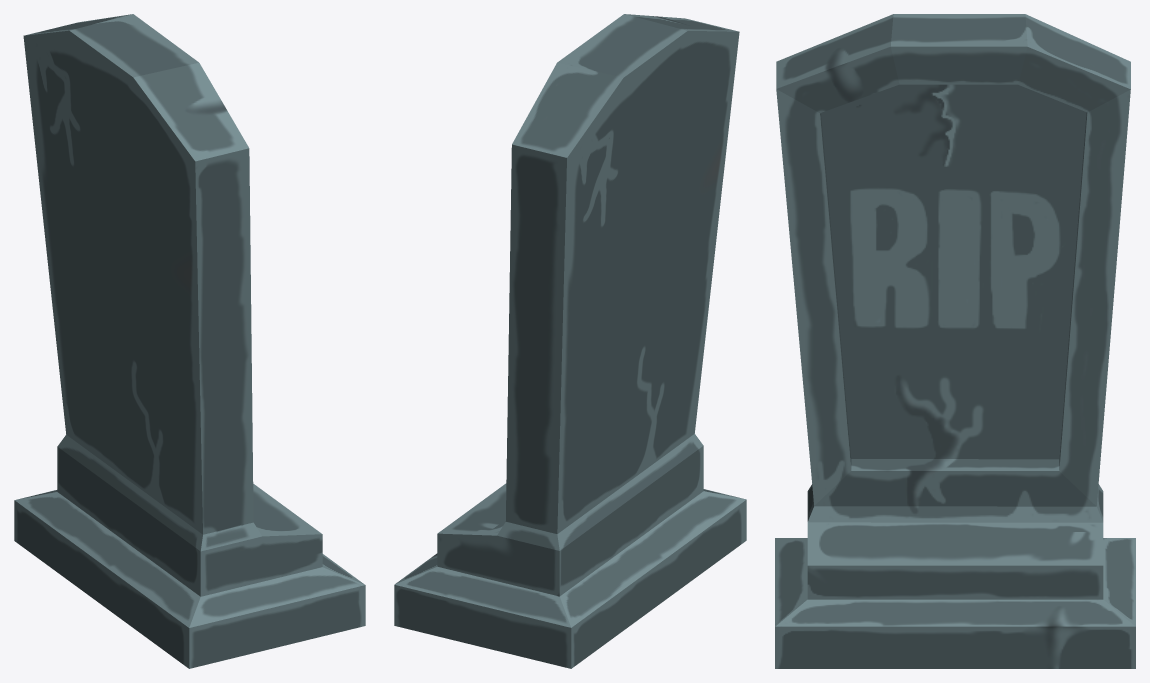
File: tombstone.gltf
The picture shows the model from 3 angles, left to right: view 1: azimuth 30°, elevation 25°; view 2: azimuth 150°, elevation 25°; view 3: azimuth 270°, elevation 25°; orthographic projection. The views are drawn at different scales.
Visible parts, largest first — view 1: tombstone; view 2: tombstone; view 3: tombstone.
Part boxes in pixels (bbox=[...]): tombstone: bbox=[14, 14, 365, 668]; tombstone: bbox=[394, 14, 746, 668]; tombstone: bbox=[775, 14, 1135, 668].
Bounding box in the file's own units: 3.41 × 10.14 × 5.85.
Materials: 1 (1 with a texture image).
